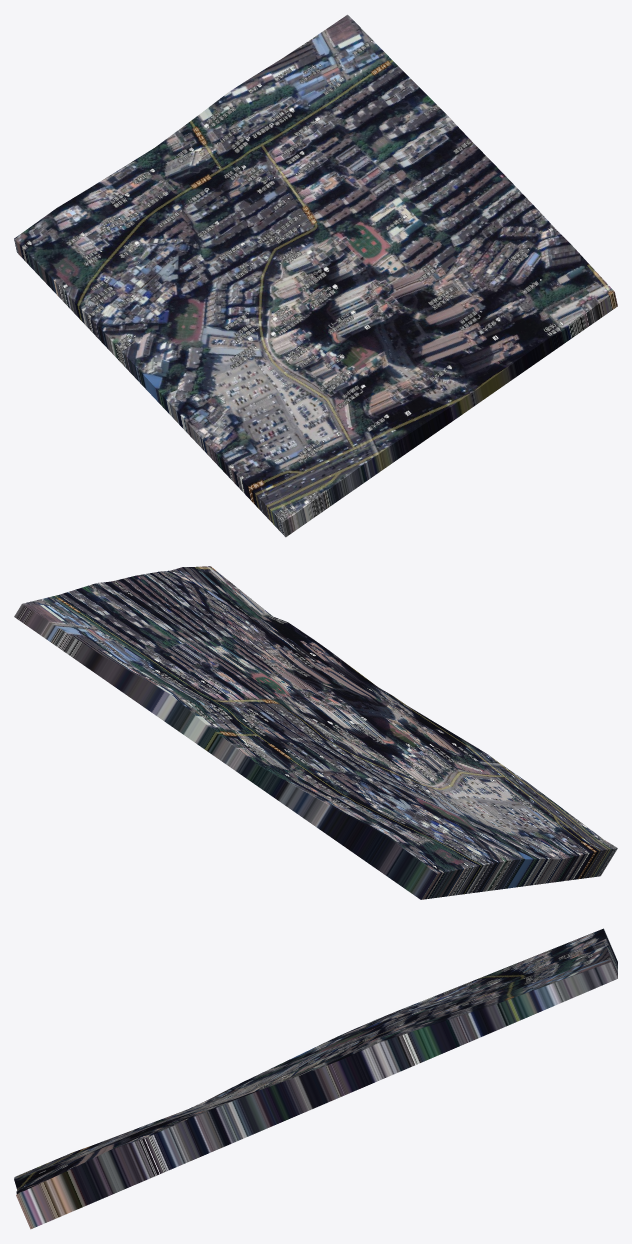
3 renders of one model, top to bottom at view 1: azimuth 30°, elevation 25°; view 2: azimuth 150°, elevation 25°; view 3: azimuth 270°, elevation 25°, orthographic. The views are drawn at different scales.
Parts seen in each view (by area): view 1: 0_10_28; view 2: 0_10_28; view 3: 0_10_28.
Part boxes in pixels (x1,y1,x2,y2): 0_10_28: [14, 14, 617, 537]; 0_10_28: [14, 566, 617, 899]; 0_10_28: [14, 928, 617, 1229].
Size of the model in its own units: 604 by 443 by 557.
Materials: 1 (1 with a texture image).
